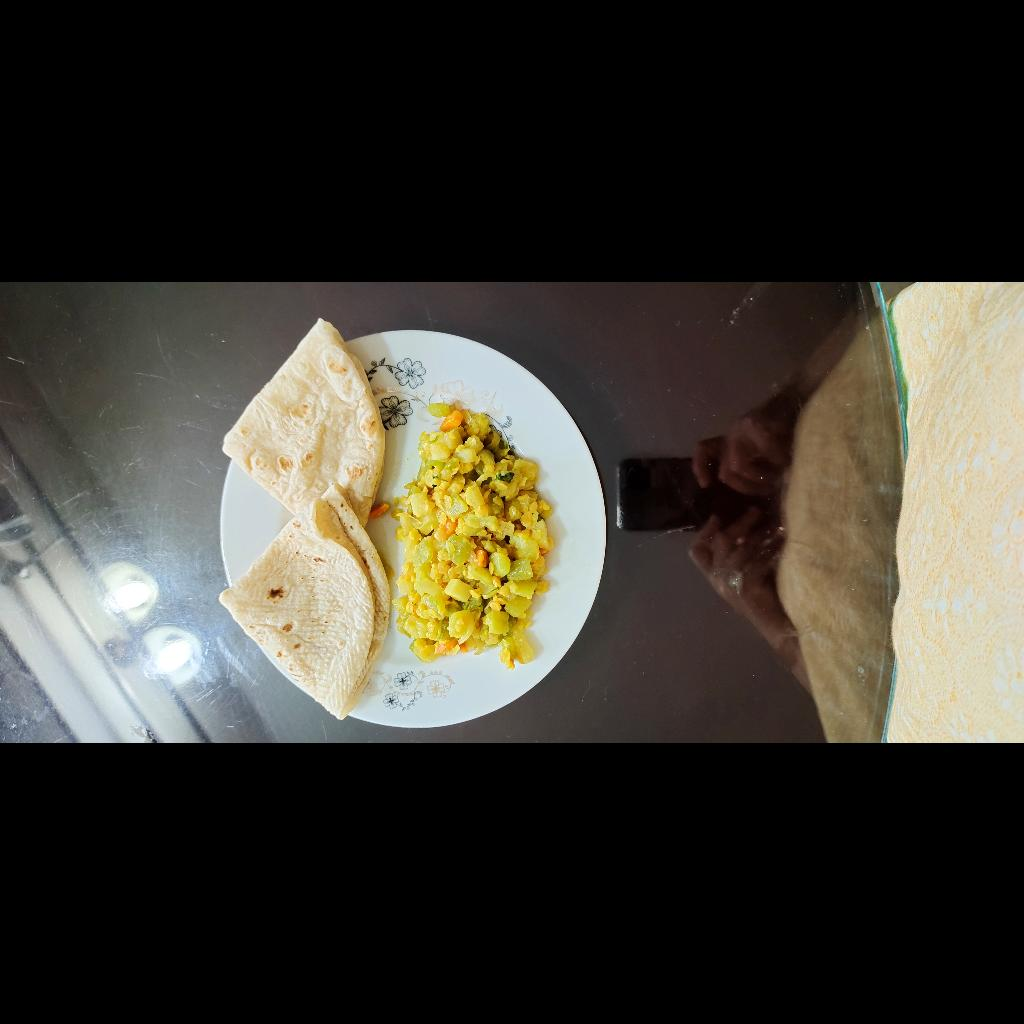ruti: (21, 493, 426, 671)
vegetable: (72, 670, 340, 835)
